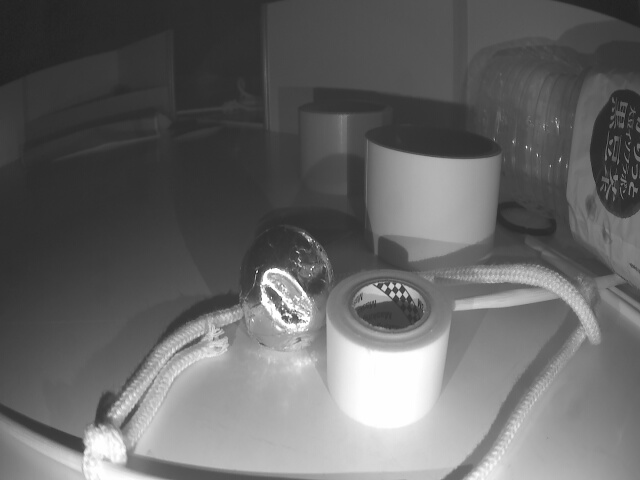Live: (243, 220, 333, 353)
